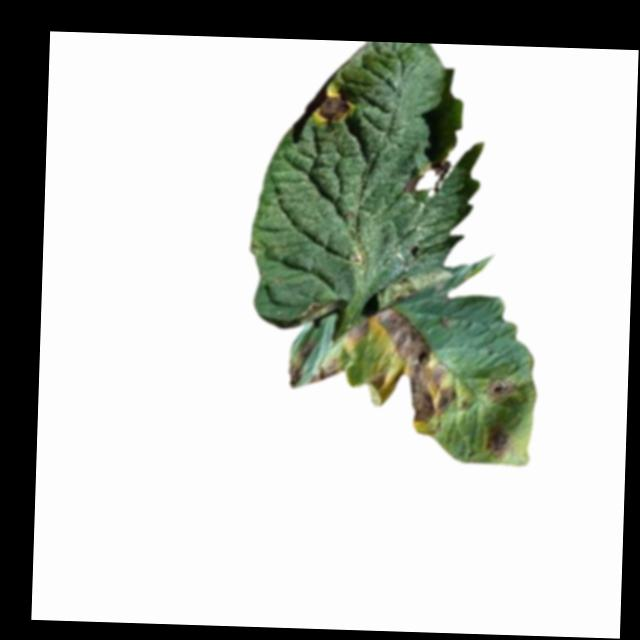Early_blight: (287, 302, 461, 435), (404, 159, 451, 198), (317, 94, 354, 127), (482, 420, 513, 459), (485, 376, 517, 407)
